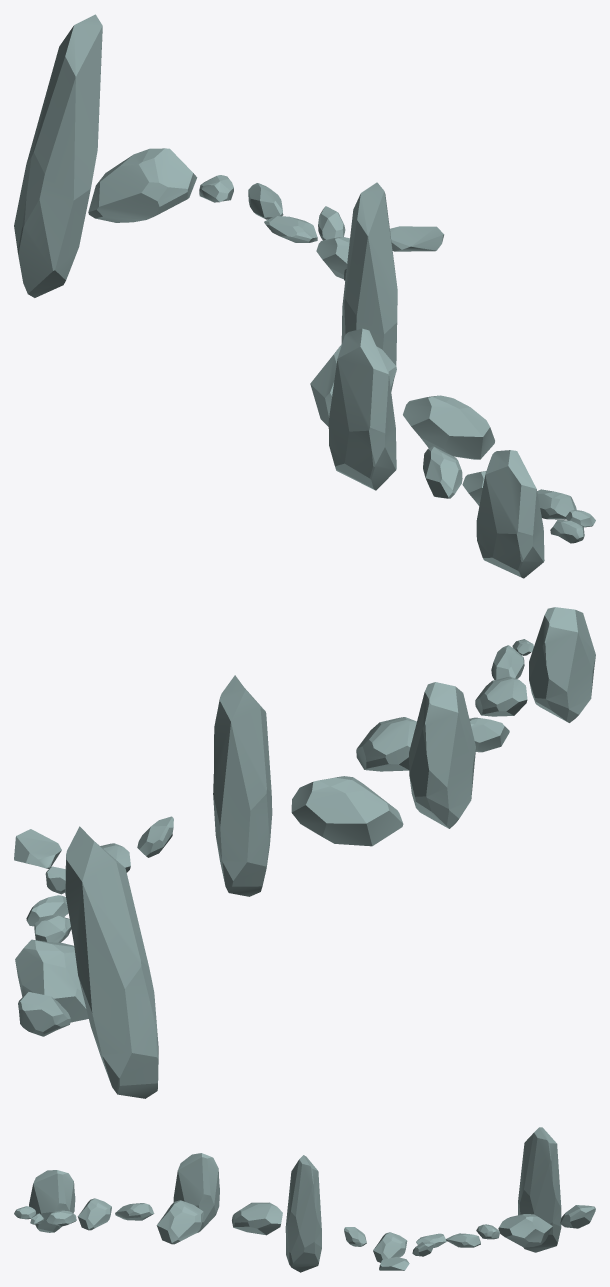
The model's file is Rock2.fbx.
3 renders of one model, top to bottom at view 1: azimuth 30°, elevation 25°; view 2: azimuth 150°, elevation 25°; view 3: azimuth 270°, elevation 25°, orthographic. The views are drawn at different scales.
Visible parts, largest first — view 1: MainStage_Rock_1; view 2: MainStage_Rock_1; view 3: MainStage_Rock_1.
Part boxes in pixels (x1=…): MainStage_Rock_1: x1=14, y1=14, x2=595, y2=578; MainStage_Rock_1: x1=14, y1=607, x2=595, y2=1098; MainStage_Rock_1: x1=14, y1=1127, x2=595, y2=1272.
Bounding box in the file's own units: 13474 × 12131 × 45011.
